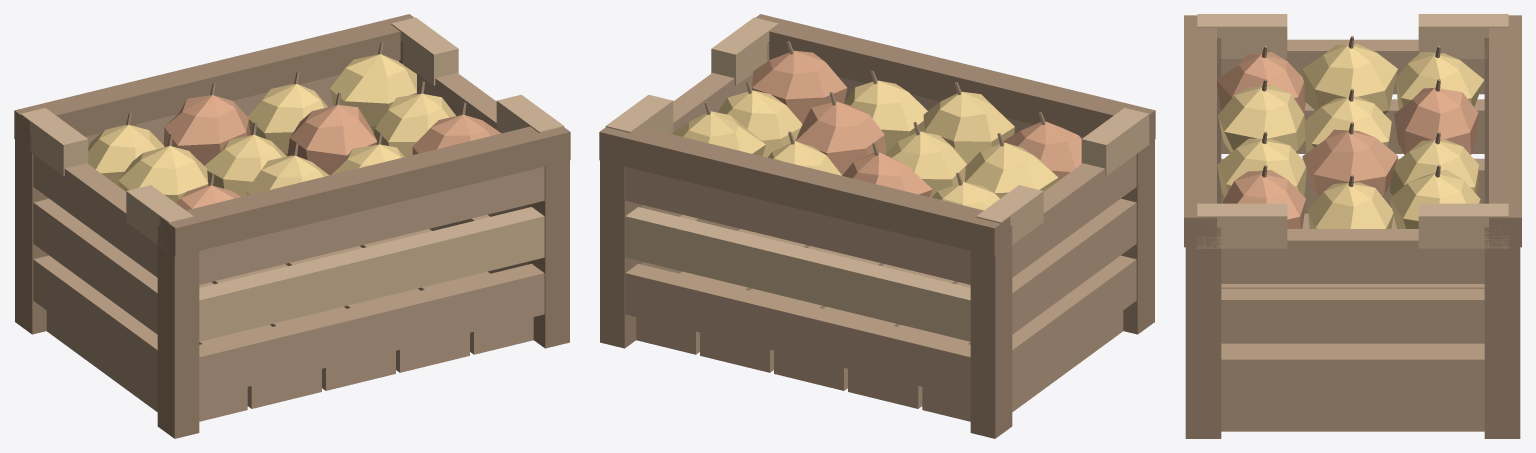
Rendered from produce_crate.glb.
The picture shows the model from 3 angles, left to right: view 1: azimuth 30°, elevation 25°; view 2: azimuth 150°, elevation 25°; view 3: azimuth 270°, elevation 25°; orthographic projection. The views are drawn at different scales.
Parts seen in each view (by area): view 1: produce_long_slat, produce_long_slat.002, produce_rim_rail, produce_rim_rail.001, produce_long_slat.004, produce_corner_post, produce_short_slat.002, produce_short_slat, produce_short_slat.004, produce_corner_post.002, produce_corner_post.001, produce_faceted_fruit.006 (+22 smaller); view 2: produce_long_slat.001, produce_long_slat.003, produce_rim_rail.001, produce_rim_rail, produce_long_slat.005, produce_corner_post.001, produce_short_slat.002, produce_short_slat, produce_short_slat.004, produce_corner_post.003, produce_corner_post, produce_faceted_fruit.003 (+22 smaller); view 3: produce_short_slat.003, produce_short_slat.001, produce_short_slat.005, produce_corner_post.003, produce_corner_post.002, produce_floor_board.004, produce_rim_rail, produce_rim_rail.001, produce_faceted_fruit.004, produce_faceted_fruit.006, produce_faceted_fruit.001, produce_faceted_fruit.009 (+19 smaller).
Boxes of the visible parts, x1,y1,x2,y2 form: produce_long_slat: (199,264,544,398); produce_long_slat.002: (199,207,544,341); produce_rim_rail: (159,126,570,256); produce_rim_rail.001: (14,14,414,149); produce_long_slat.004: (199,167,544,284); produce_corner_post: (157,225,199,438); produce_short_slat.002: (33,198,157,334); produce_short_slat: (33,255,157,391); produce_short_slat.004: (33,154,157,277); produce_corner_post.002: (528,160,569,348); produce_corner_post.001: (15,132,48,334); produce_faceted_fruit.006: (287,105,377,175); produce_long_slat.001: (625,264,970,398); produce_long_slat.003: (625,207,970,341); produce_rim_rail.001: (599,126,1010,256); produce_rim_rail: (755,14,1155,142); produce_long_slat.005: (625,167,970,284); produce_corner_post.001: (970,225,1012,438); produce_short_slat.002: (1012,198,1136,334); produce_short_slat: (1012,255,1136,391); produce_short_slat.004: (1012,154,1136,277); produce_corner_post.003: (600,160,641,348); produce_corner_post: (1121,139,1154,334); produce_faceted_fruit.003: (752,50,847,123); produce_short_slat.003: (1221,288,1484,343); produce_short_slat.001: (1221,348,1484,402); produce_short_slat.005: (1221,229,1484,283); produce_corner_post.003: (1484,227,1520,438); produce_corner_post.002: (1185,227,1221,438); produce_floor_board.004: (1221,403,1484,431); produce_rim_rail: (1184,15,1216,247); produce_rim_rail.001: (1489,15,1521,247); produce_faceted_fruit.004: (1302,44,1397,114); produce_faceted_fruit.006: (1302,129,1398,198); produce_faceted_fruit.001: (1218,84,1305,152); produce_faceted_fruit.009: (1394,87,1478,154).
Bounding box in the file's own units: 0.8 × 0.4418 × 0.565.
